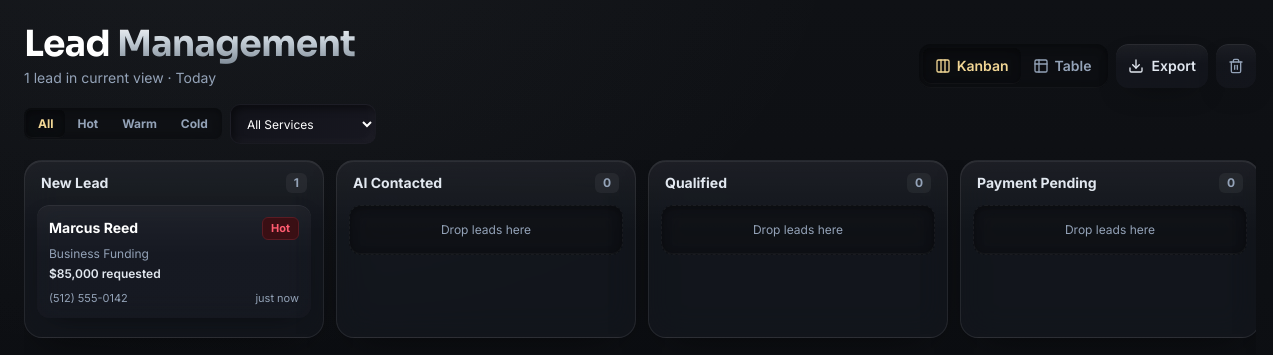
Test case: Component render regression › LeadsPage export menu opens with CSV/Excel/PDF actions
Click the button "Export": point(1162, 66) [1116,44,1208,88]
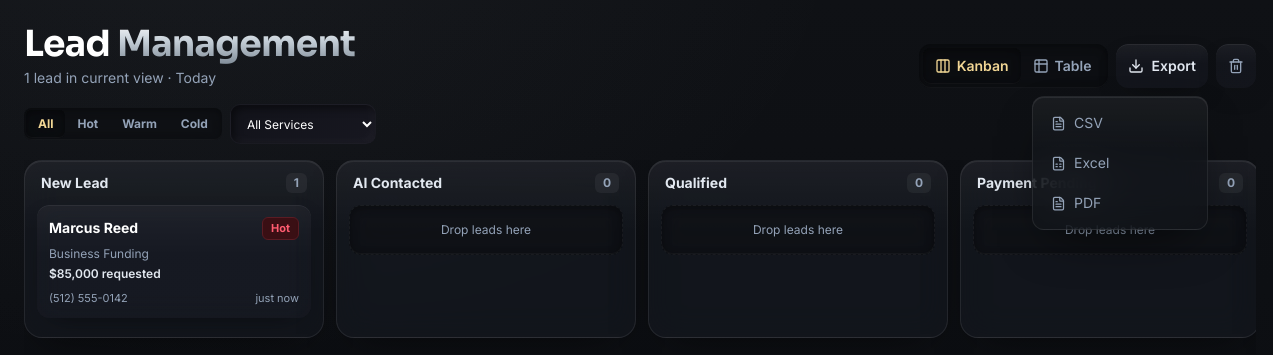
Now the button "CSV" is shown, box [1039,103,1201,143]
Now the button "Excel" is shown, box [1039,143,1201,183]
Now the button "PDF" is shown, box [1039,183,1201,223]
